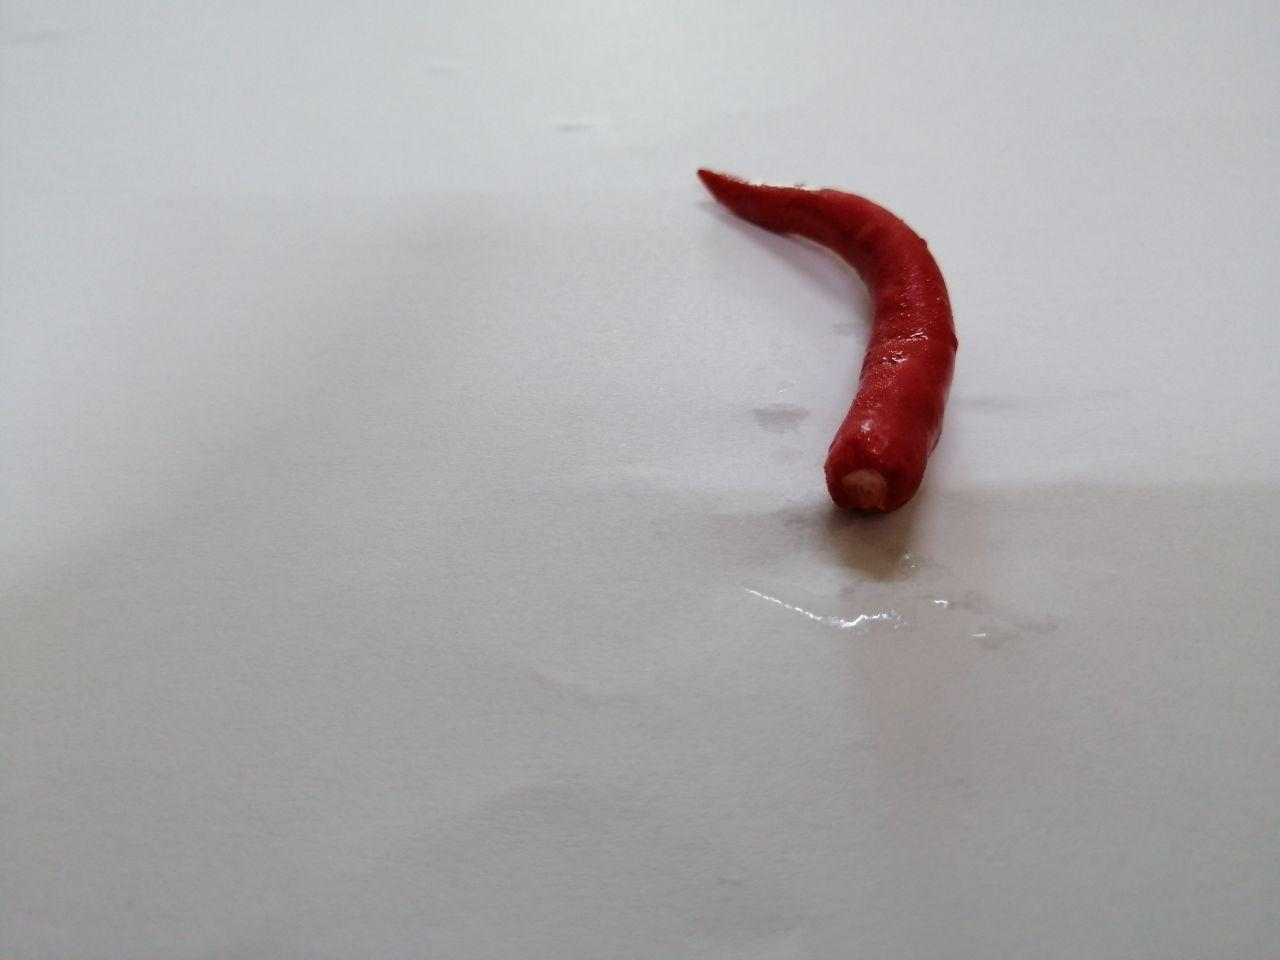lada merah: (671, 134, 993, 542)
